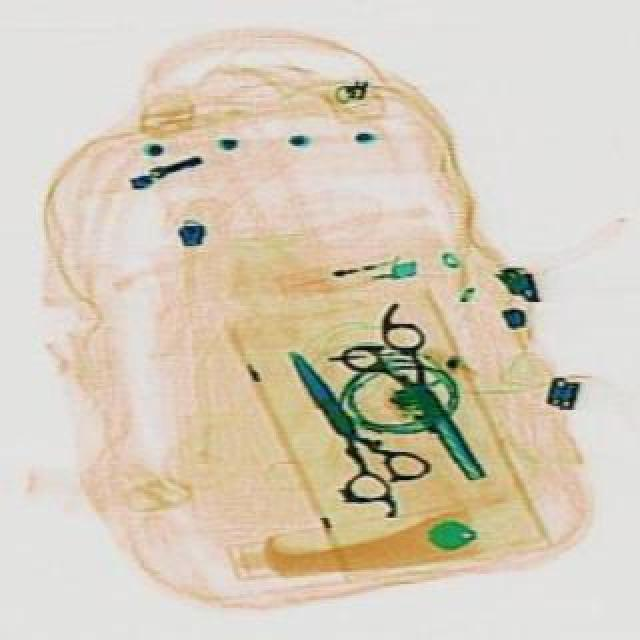pliers: (314, 300, 514, 506), (246, 326, 440, 532)
